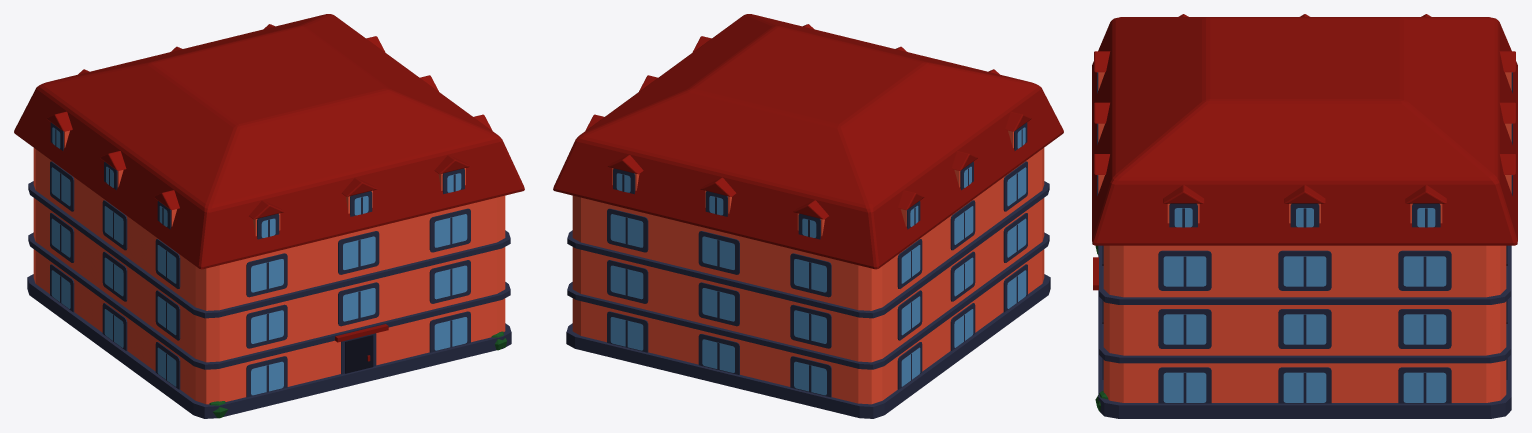
File: house-2x2-3f-mansard-c.glb
3 views of the same model, side by side, from view 1: azimuth 30°, elevation 25°; view 2: azimuth 150°, elevation 25°; view 3: azimuth 270°, elevation 25° (orthographic). The views are drawn at different scales.
Visible parts, largest first — view 1: house-2x2-3f-mansard-c; view 2: house-2x2-3f-mansard-c; view 3: house-2x2-3f-mansard-c.
Boxes of the visible parts, x1,y1,x2,y2 form: house-2x2-3f-mansard-c: [14, 14, 524, 418]; house-2x2-3f-mansard-c: [553, 14, 1063, 418]; house-2x2-3f-mansard-c: [1092, 14, 1517, 418].
Bounding box in the file's own units: 1.99 × 1.41 × 1.99.
Materials: 1 (1 with a texture image).
